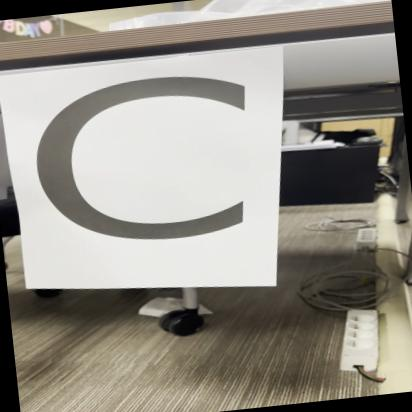seat: (4, 51, 291, 305)
